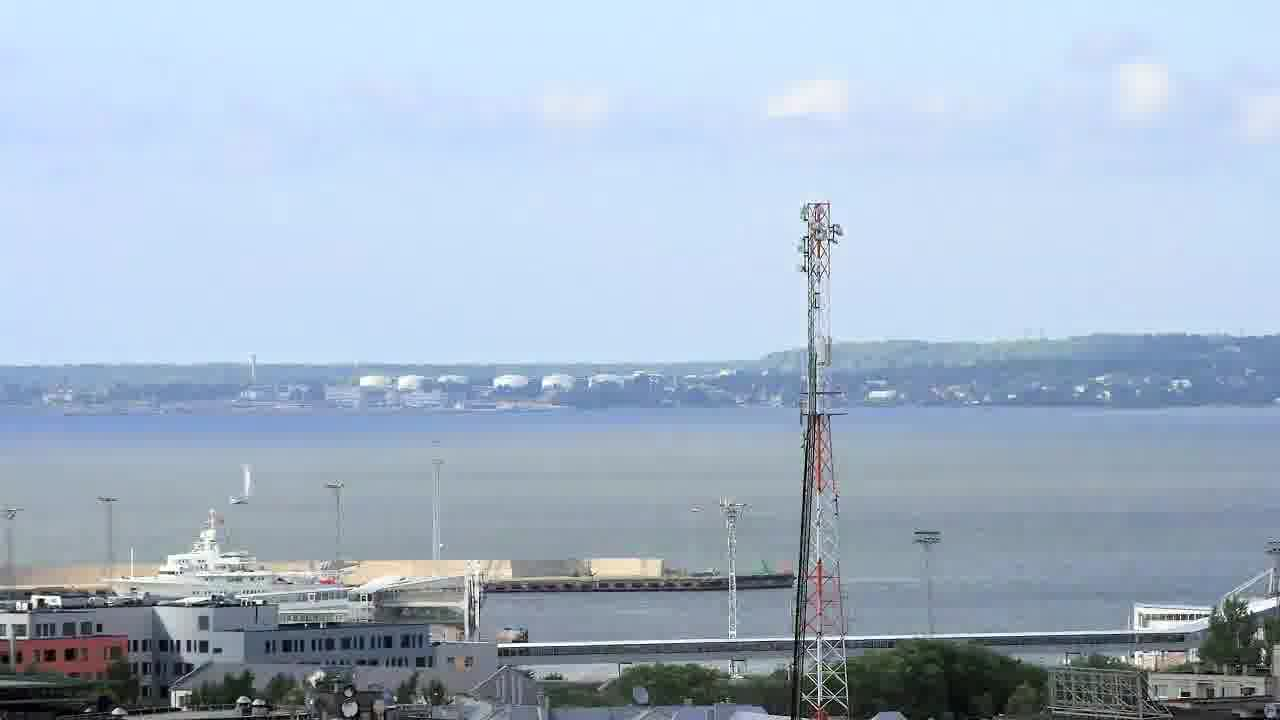type-2: (218, 445, 269, 522)
type-3: (84, 515, 355, 603)
